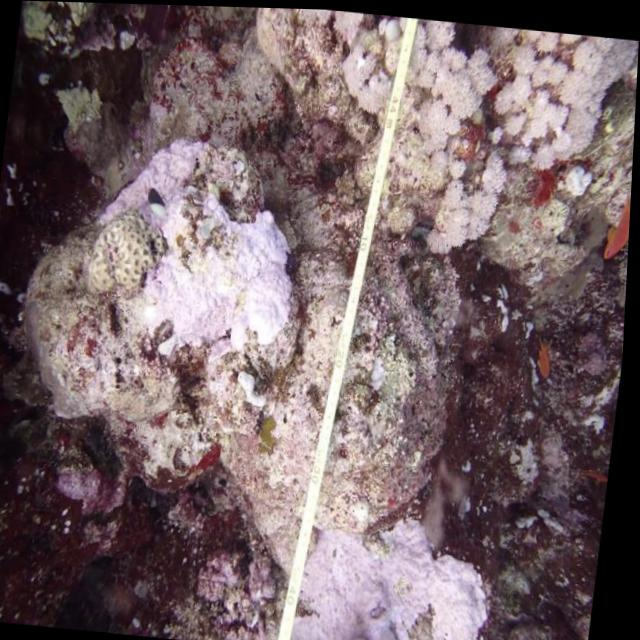Bleached Coral: (333, 10, 522, 241), (477, 23, 633, 174)
